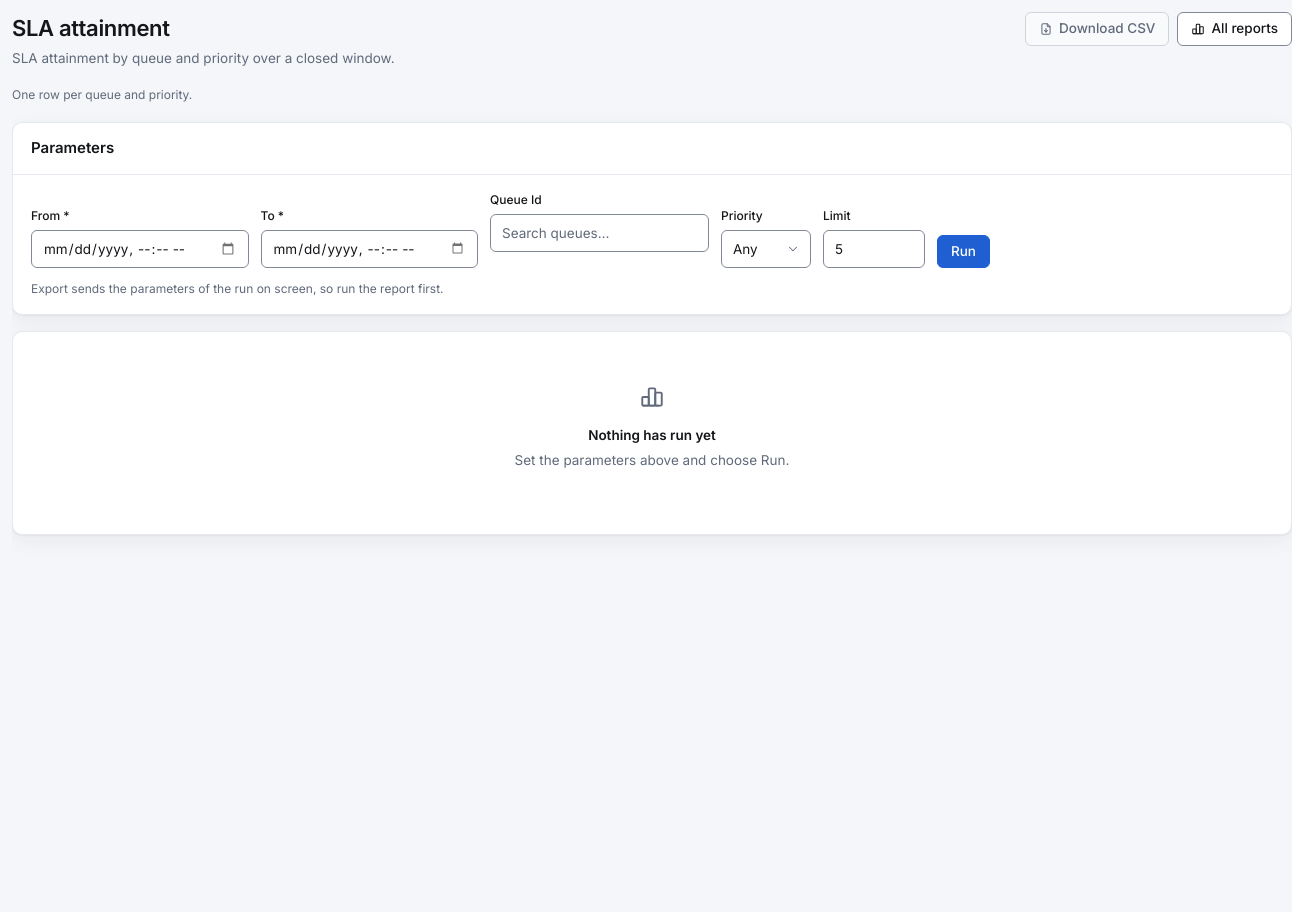
Test: a run that matched nothing › suppresses the totals tiles rather than rendering a screen of zeros
Type "2026-07-01T09:00" into the field labelled "From" at [140, 249], box [31,230,248,268]
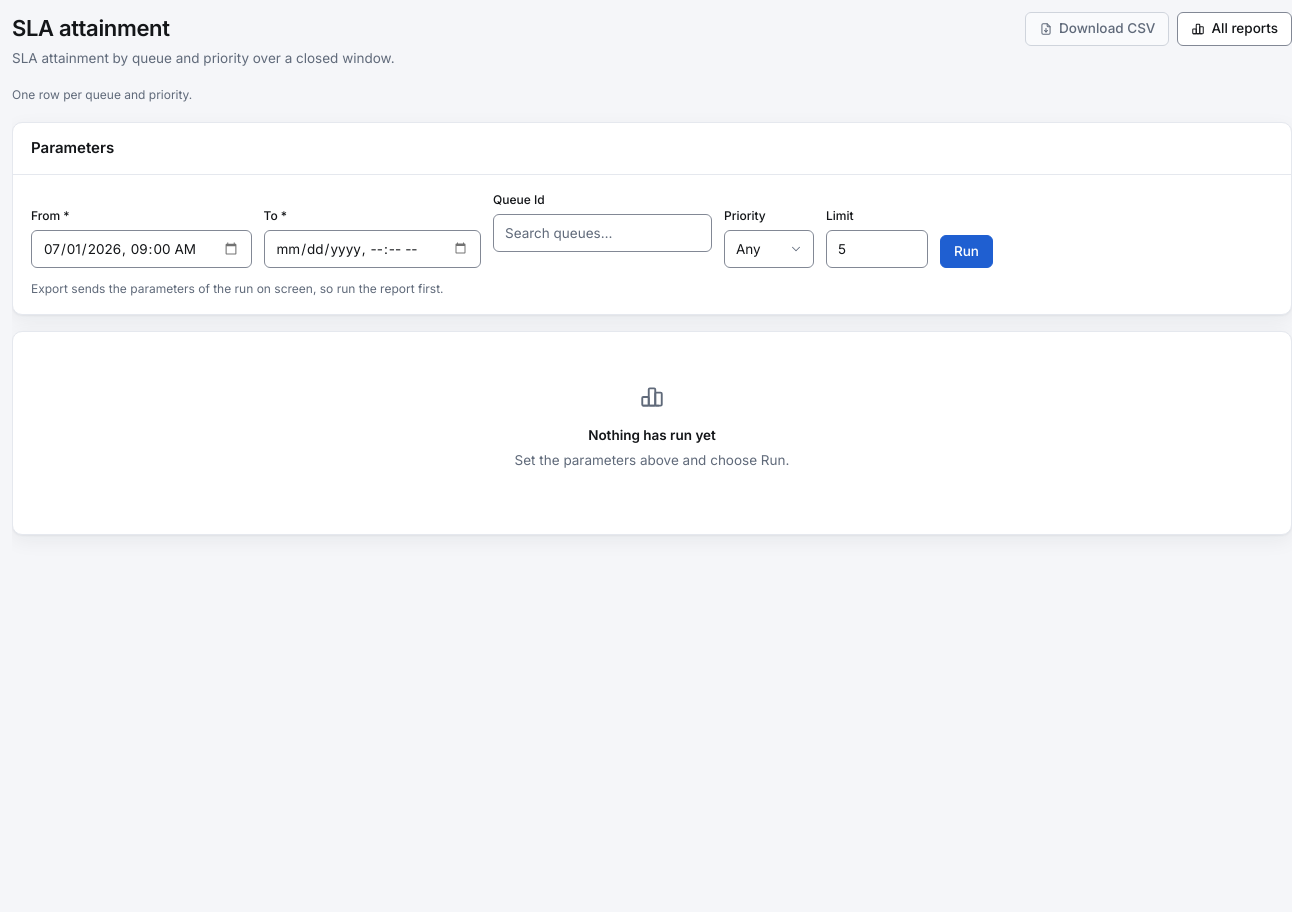
Type "2026-08-19T09:00" into the field labelled "To" at [372, 249], box [264,230,481,268]
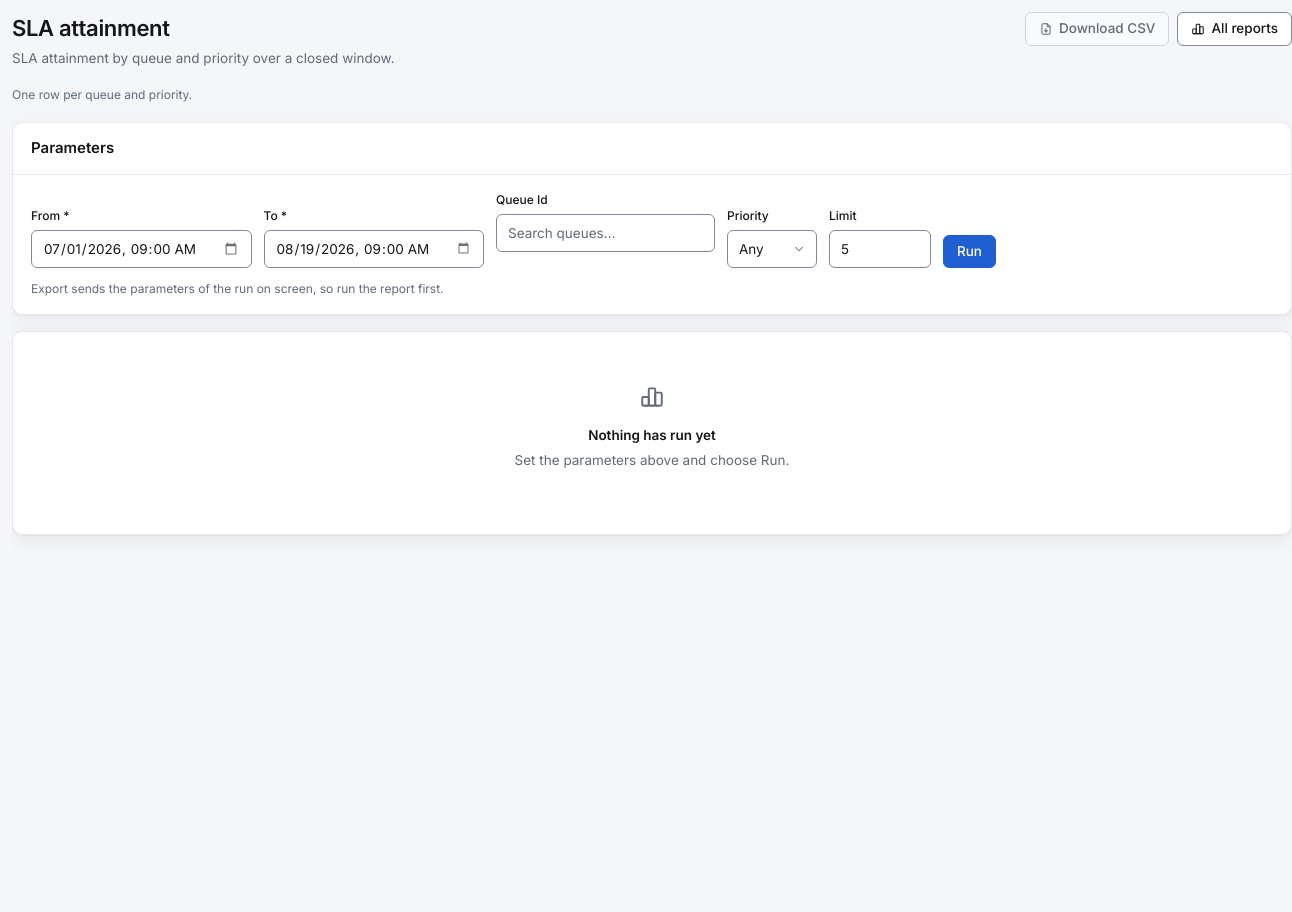
Click the button "Run" at [970, 251], box [943,234,996,268]
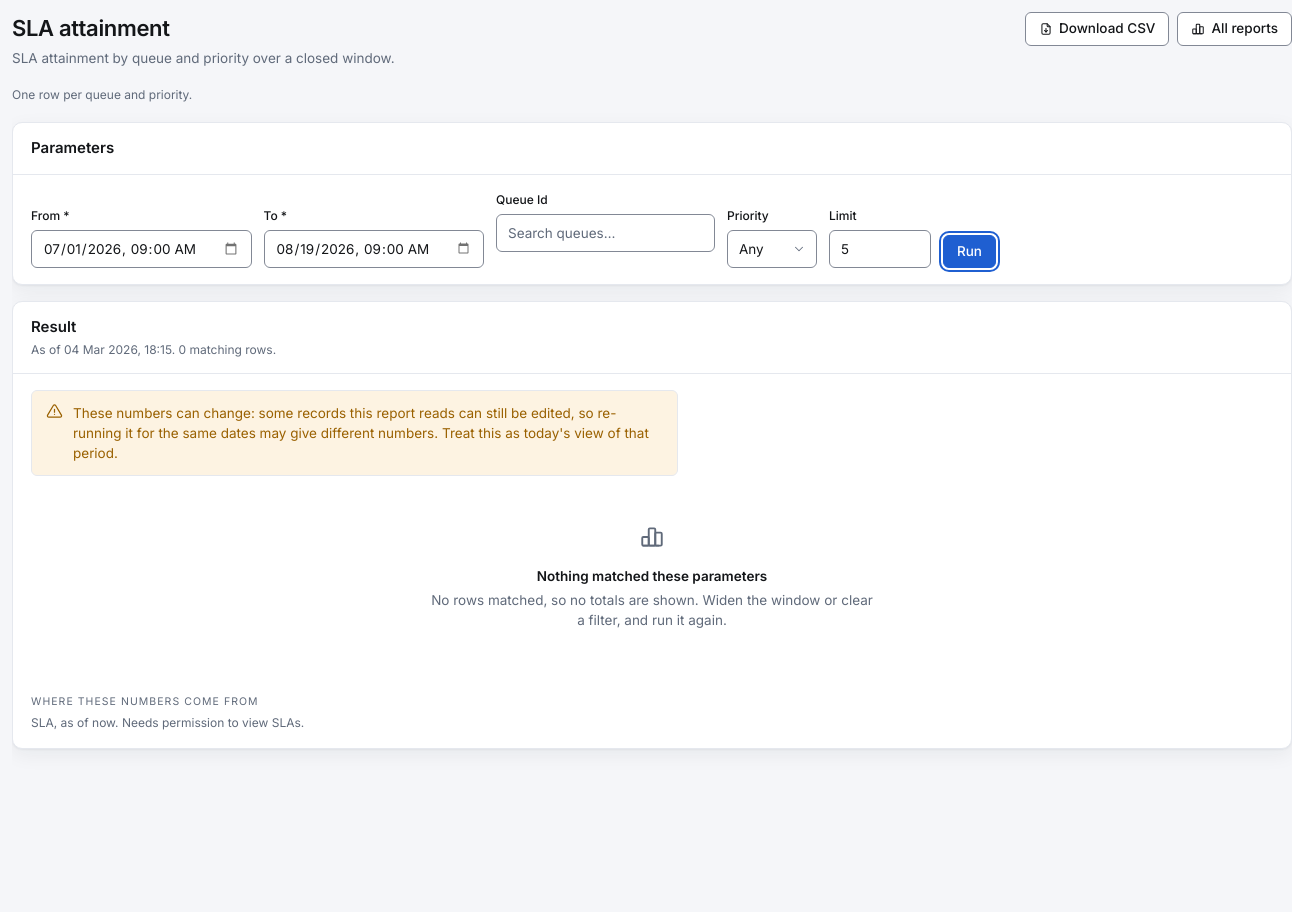
Check: the text "As of 04 Mar 2026, 18:15. 0 matching rows." is shown, box [31,340,276,358]
Check: the heading "Nothing matched these parameters" is shown, box [537,568,767,584]
